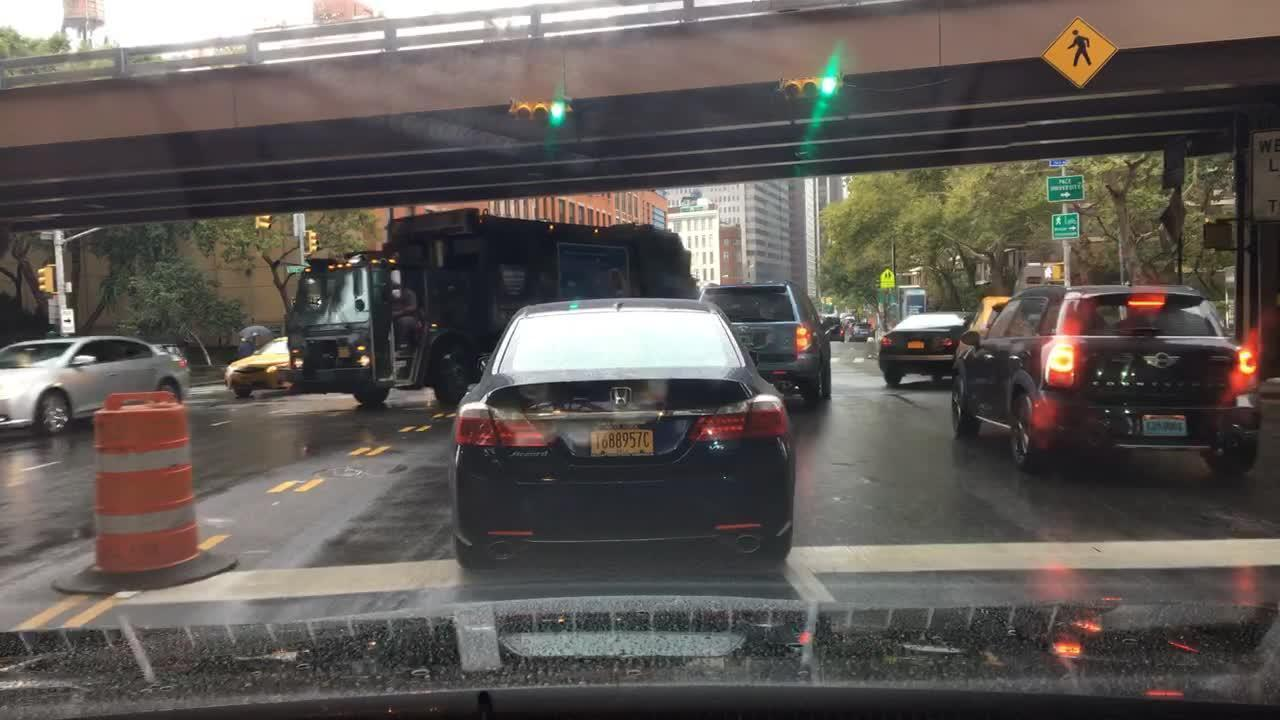Honda: (605, 382, 635, 412)
mini: (1138, 348, 1186, 373)
